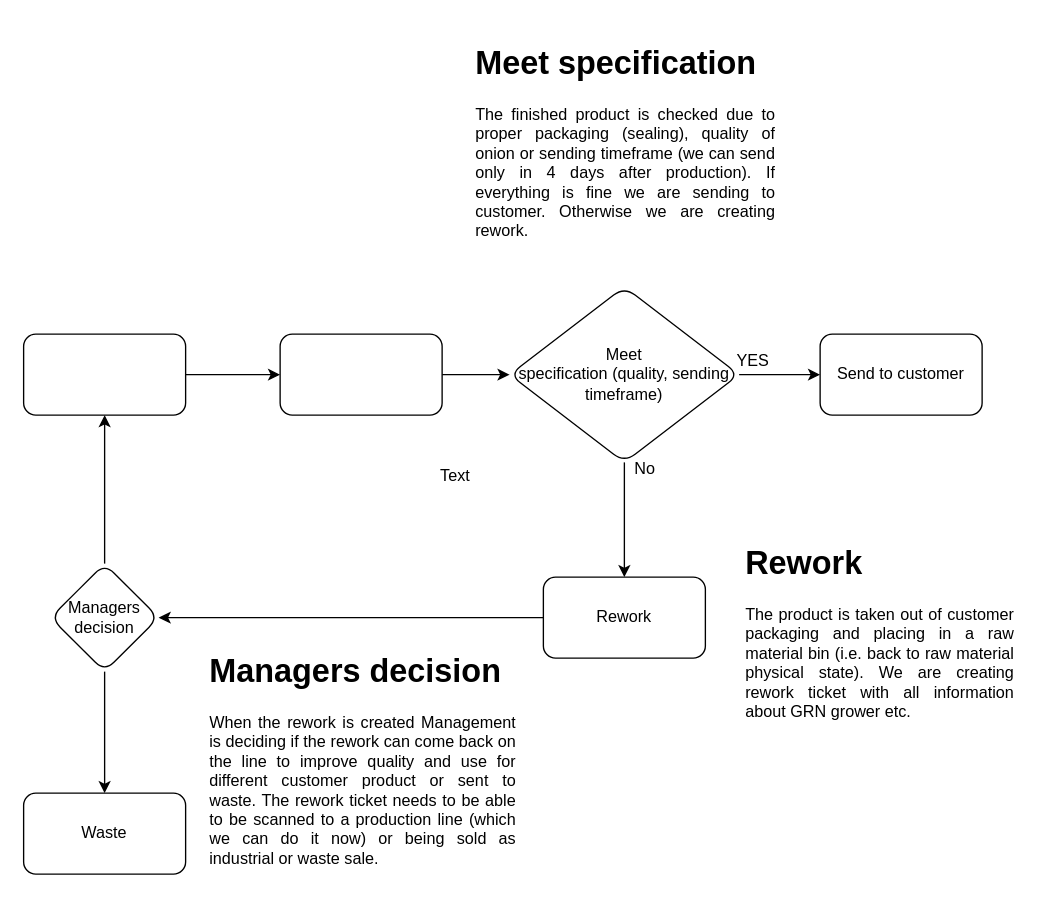
This 1042x898 diagram has some shape labels left out. Each missing label, with the centre of its shape:
"Finished Product" goes at point 360,374.
"Production Line" goes at point 104,374.
